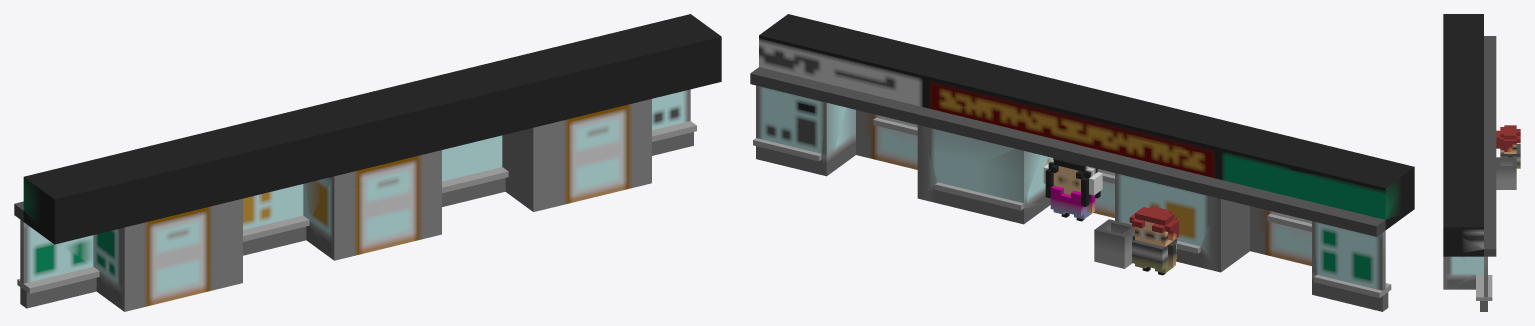
Rendered from scene_store.fbx.
3 views of the same model, side by side, from view 1: azimuth 30°, elevation 25°; view 2: azimuth 150°, elevation 25°; view 3: azimuth 270°, elevation 25° (orthographic). The views are drawn at different scales.
Parts seen in each view (by area): view 1: scene_store; view 2: scene_store; view 3: scene_store.
Boxes of the visible parts, box(x1,y1,x2,y2) form: scene_store: box(14, 14, 721, 311); scene_store: box(750, 14, 1414, 311); scene_store: box(1443, 14, 1520, 311).
Size of the model in its own units: 12.4 by 1.9 by 2.3.
Materials: 1 (1 with a texture image).
